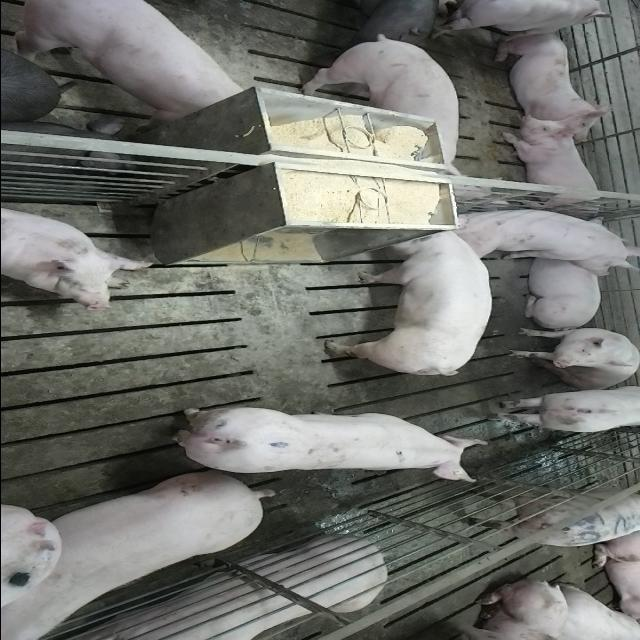Feeding: (316, 224, 497, 372)
Sitting: (456, 205, 640, 274), (505, 326, 639, 390)
Standing: (10, 1, 248, 123), (161, 406, 487, 482), (304, 32, 464, 128), (463, 483, 639, 549), (486, 388, 638, 437), (434, 0, 618, 34), (318, 0, 440, 45)
Sternal_lying: (61, 538, 390, 640), (0, 201, 160, 309), (494, 30, 621, 138), (499, 116, 610, 215), (520, 254, 608, 327)
